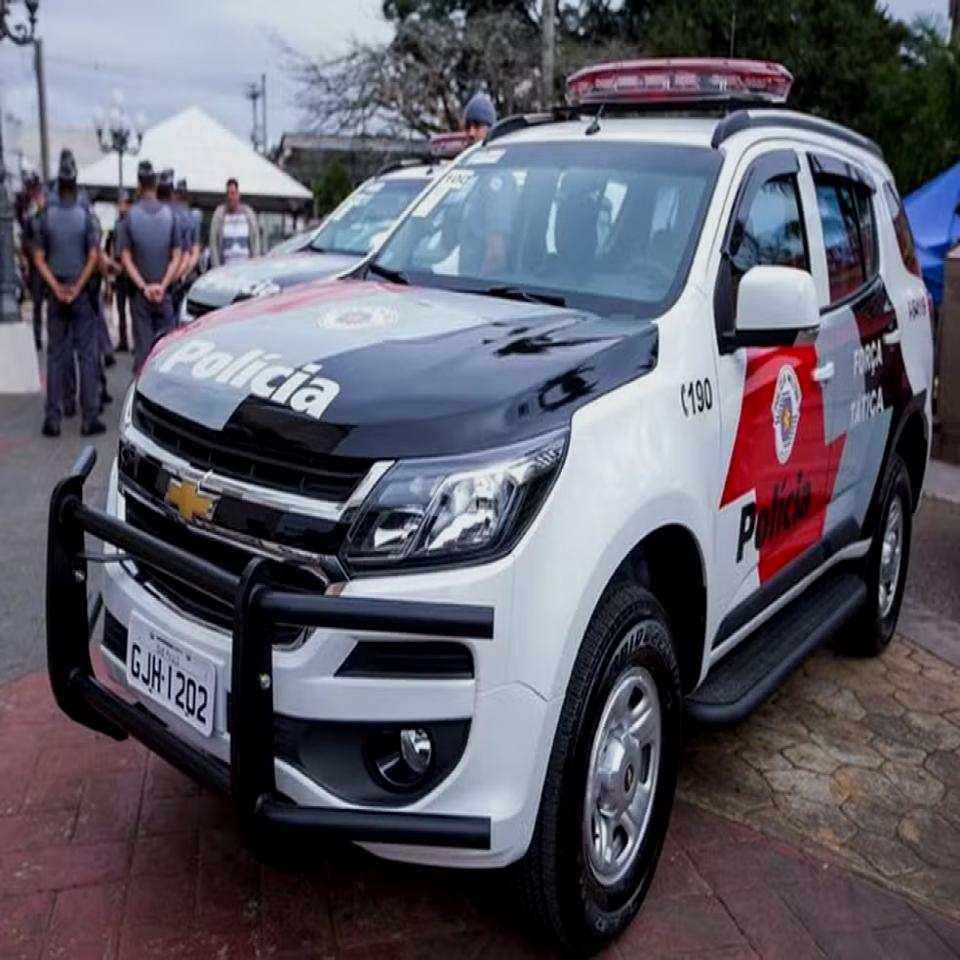viatura: (48, 57, 934, 960)
